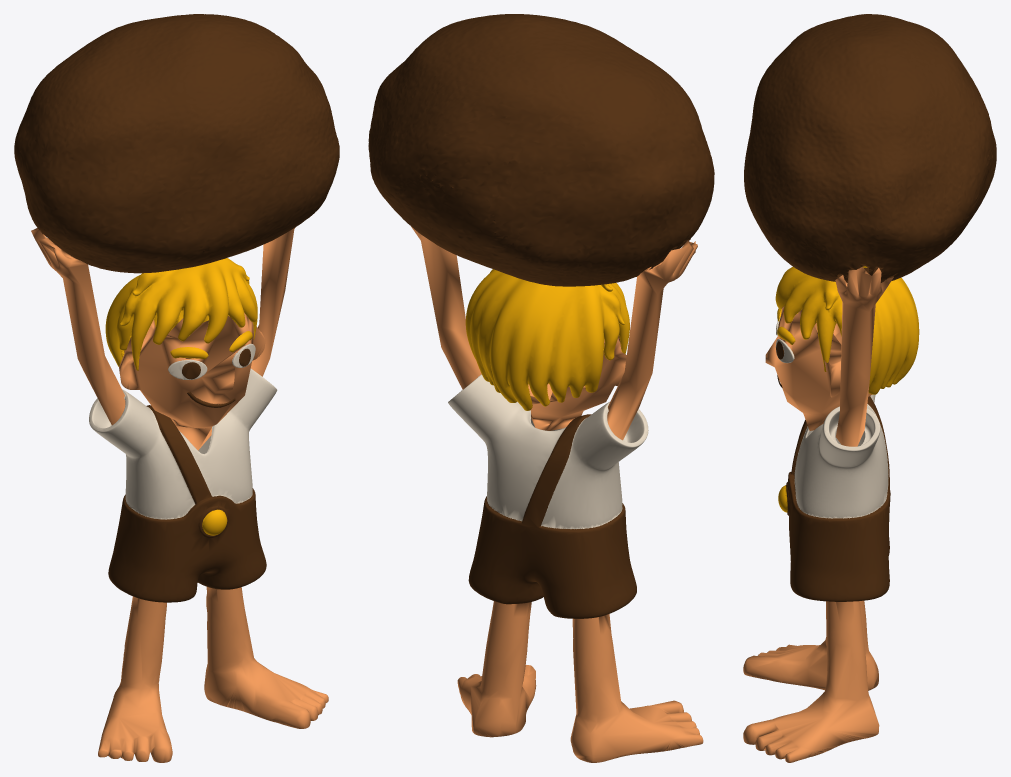
File: Lordan_web.glb
The picture shows the model from 3 angles, left to right: view 1: azimuth 30°, elevation 25°; view 2: azimuth 150°, elevation 25°; view 3: azimuth 270°, elevation 25°; orthographic projection. The views are drawn at different scales.
Parts seen in each view (by area): view 1: Cylinder.003; view 2: Cylinder.003; view 3: Cylinder.003.
Part boxes in pixels (box(x1,y1,x2,y2)): Cylinder.003: box(14, 14, 339, 762); Cylinder.003: box(368, 14, 714, 762); Cylinder.003: box(743, 14, 996, 762).
Bounding box in the file's own units: 0.9004 × 1.95 × 0.6641.
